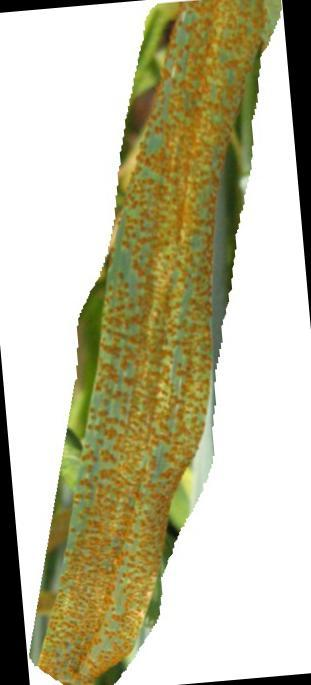Wheat: (141, 8, 246, 215), (50, 471, 172, 625), (116, 217, 218, 382), (90, 393, 206, 469)
